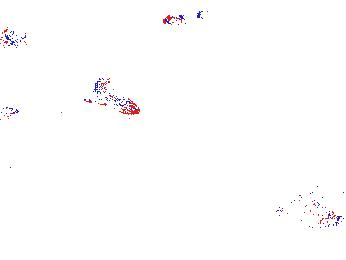X-ray fish: (291, 202, 341, 229), (55, 94, 86, 121)
glassfish: (271, 173, 346, 221)
red belly glassfish: (160, 9, 205, 27), (1, 30, 27, 48)
redtail glassfish: (85, 70, 139, 115)
